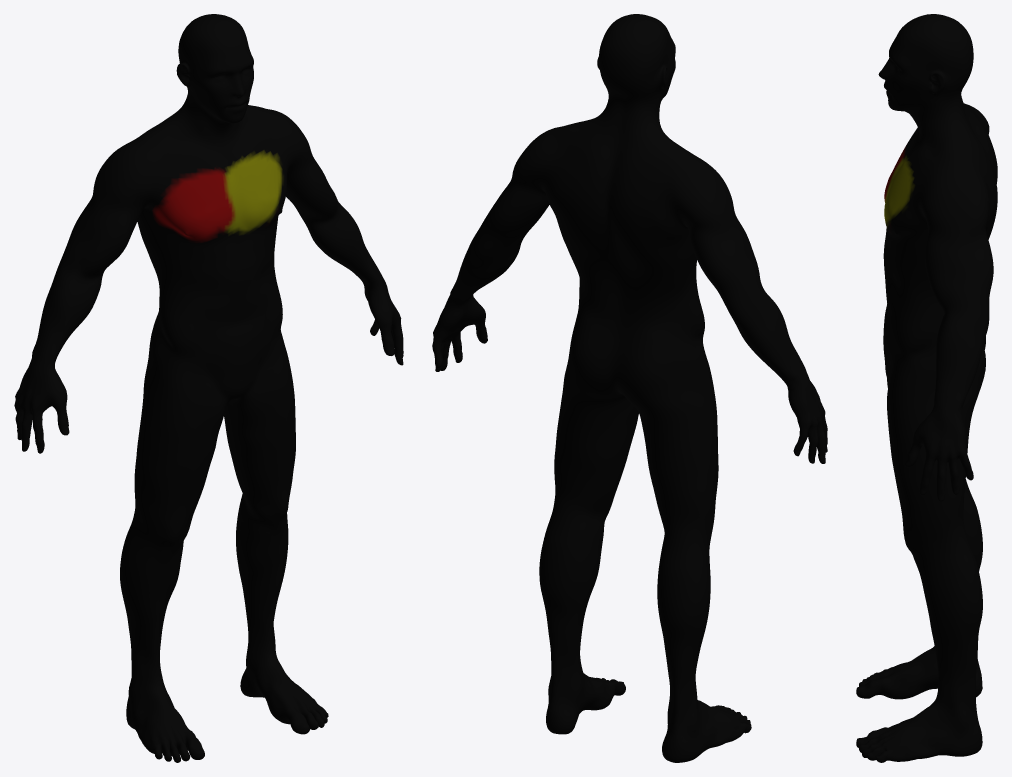
The model's file is 0516bodymeshx.fbx.
3 views of the same model, side by side, from view 1: azimuth 30°, elevation 25°; view 2: azimuth 150°, elevation 25°; view 3: azimuth 270°, elevation 25° (orthographic).
Visible parts, largest first — view 1: FinalBaseMesh; view 2: FinalBaseMesh; view 3: FinalBaseMesh.
Boxes of the visible parts, x1,y1,x2,y2 form: FinalBaseMesh: [14, 14, 403, 762]; FinalBaseMesh: [432, 14, 827, 762]; FinalBaseMesh: [856, 14, 997, 762].
Size of the model in its own units: 1.17 by 2.08 by 0.3776.
